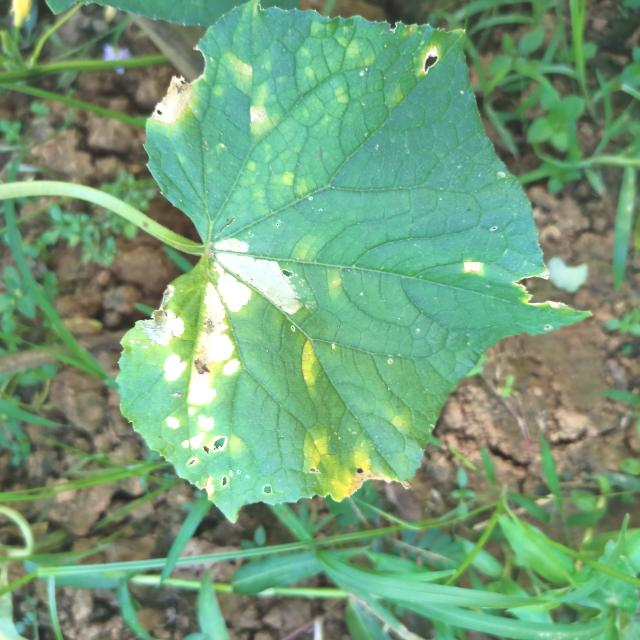disease_cucumber: (145, 233, 303, 514), (217, 45, 306, 140), (298, 421, 376, 507), (288, 334, 324, 392)
